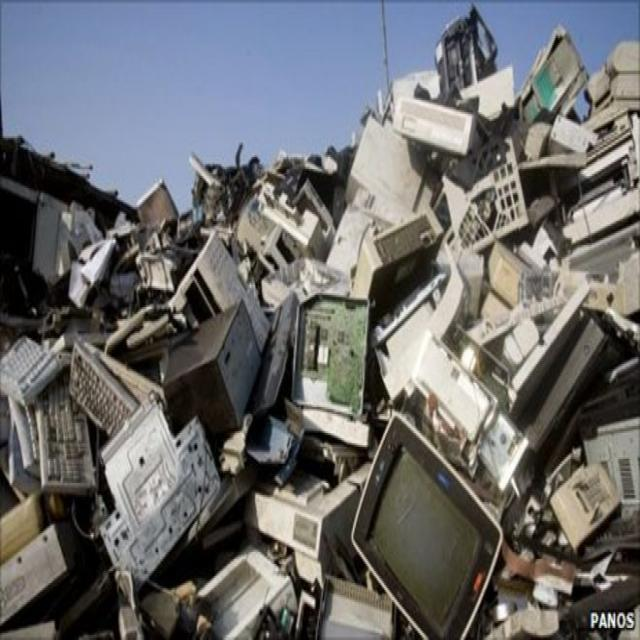heap: (9, 39, 618, 640)
